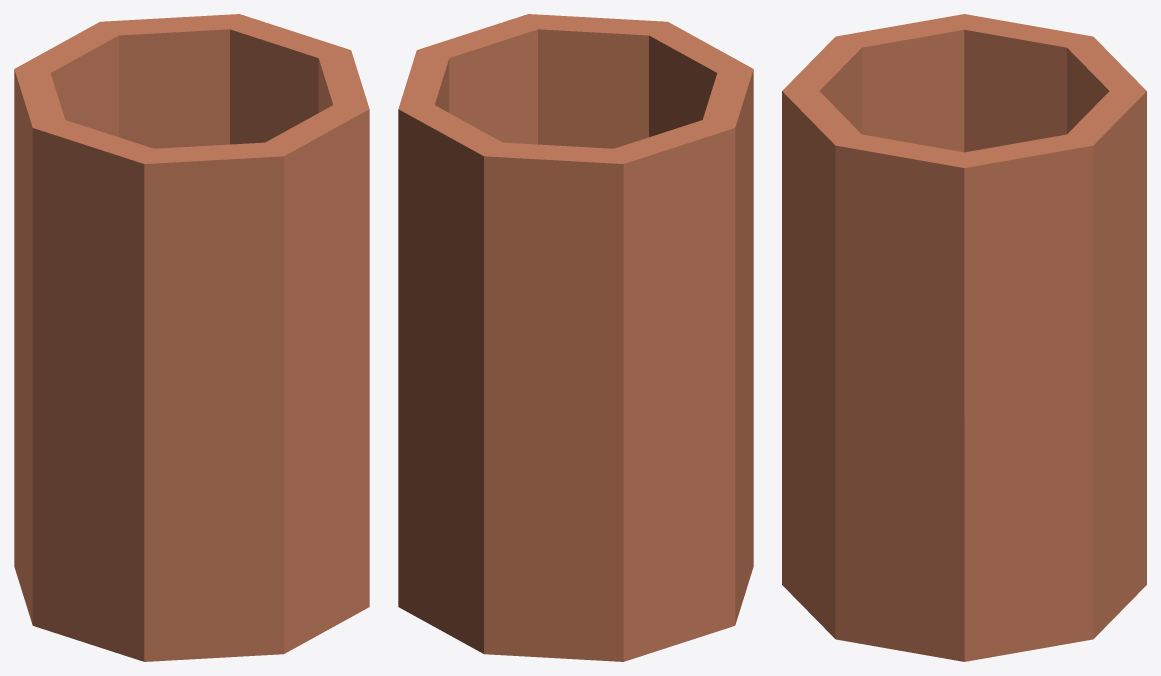
The model's file is ToothbrushCup_08.fbx.
3 views of the same model, side by side, from view 1: azimuth 30°, elevation 25°; view 2: azimuth 150°, elevation 25°; view 3: azimuth 270°, elevation 25° (orthographic).
Visible parts, largest first — view 1: ToothbrushCup_08; view 2: ToothbrushCup_08; view 3: ToothbrushCup_08.
Part boxes in pixels (left/top/right/bottom): ToothbrushCup_08: left=14, top=14, right=369, bottom=661; ToothbrushCup_08: left=398, top=14, right=753, bottom=661; ToothbrushCup_08: left=782, top=14, right=1146, bottom=661.
Size of the model in its own units: 10.39 by 15.52 by 10.39.
